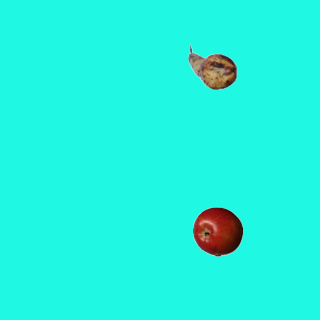Apple Braeburn: (192, 206, 242, 256)
Pear Abate: (187, 42, 237, 92)
